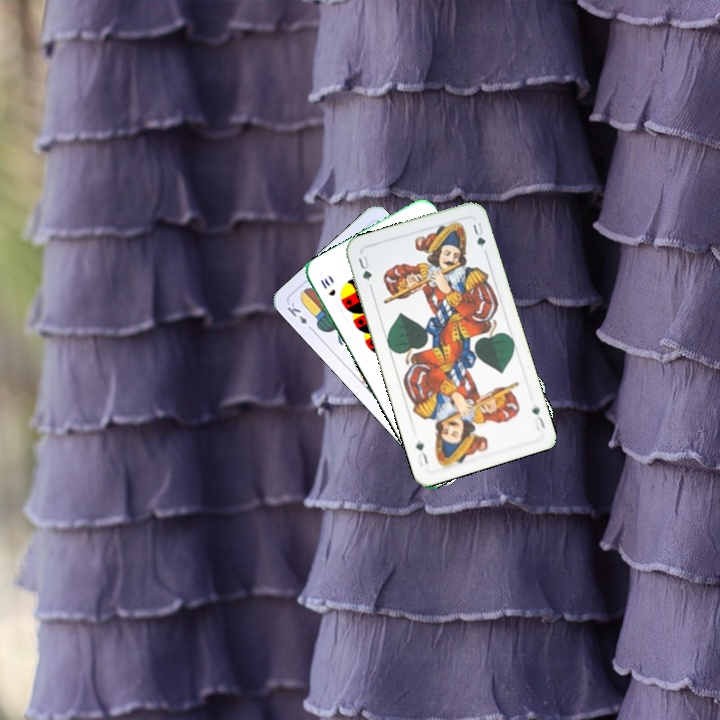EK: (283, 298, 316, 334)
GU: (354, 252, 374, 284), (528, 402, 547, 433)
S10: (316, 274, 338, 299)
